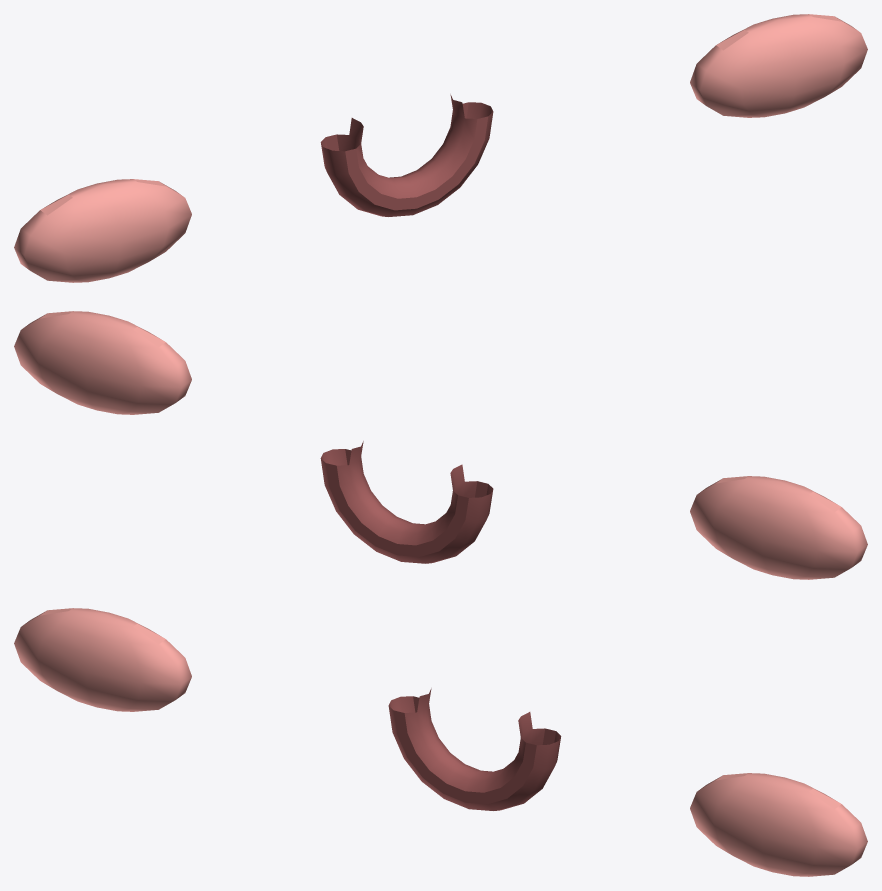
The model's file is Face_Smile.fbx.
The picture shows the model from 3 angles, top to bottom: view 1: azimuth 30°, elevation 25°; view 2: azimuth 150°, elevation 25°; view 3: azimuth 330°, elevation 25°; orthographic projection.
Visible parts, largest first — view 1: Cheek, Cheek.001, Mouth; view 2: Cheek, Cheek.001, Mouth; view 3: Cheek, Cheek.001, Mouth.
Part boxes in pixels (x1,y1,x2,y2): Cheek: (690,14,867,117); Cheek.001: (14,179,191,282); Mouth: (320,94,493,216); Cheek: (14,311,191,414); Cheek.001: (690,476,867,579); Mouth: (320,441,493,563); Cheek: (690,773,867,876); Cheek.001: (14,608,191,711); Mouth: (388,688,561,810).
Bounding box in the file's own units: 57.41 × 8.9 × 7.14.
